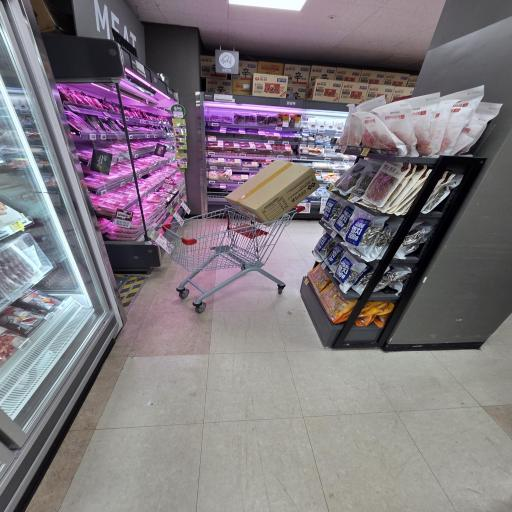fully_cart: (136, 150, 334, 331)
